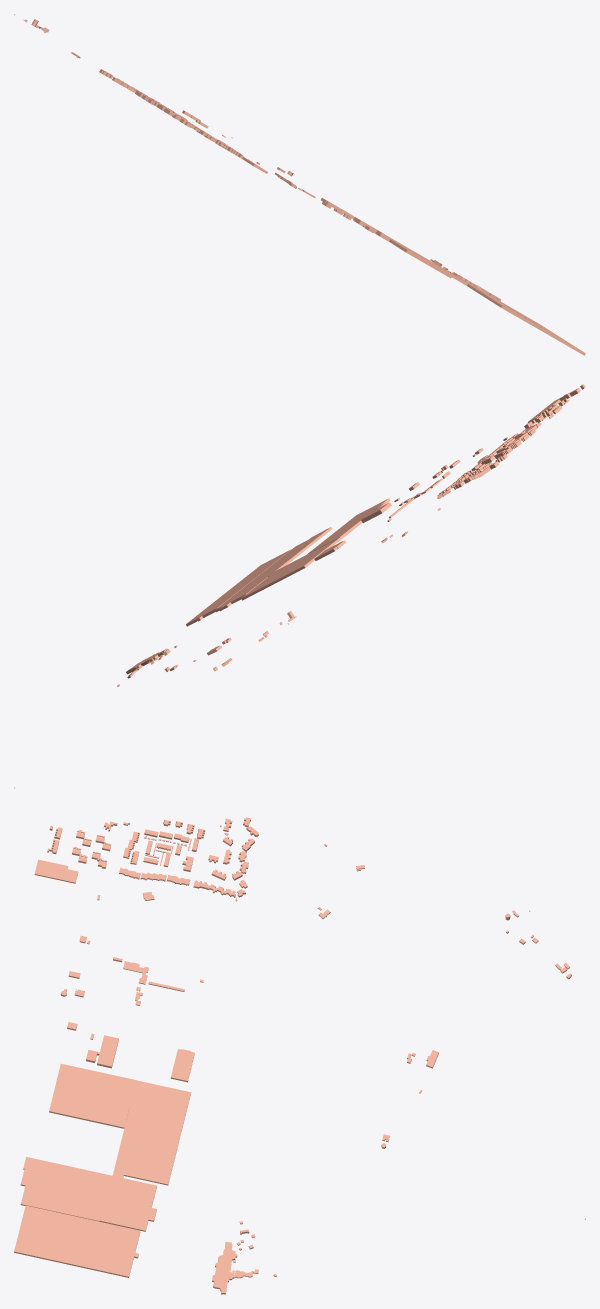
3 renders of one model, top to bottom at view 1: azimuth 30°, elevation 25°; view 2: azimuth 150°, elevation 25°; view 3: azimuth 270°, elevation 25°, orthographic. The views are drawn at different scales.
Bounding box in the file's own units: 968 × 756 × 1306.
